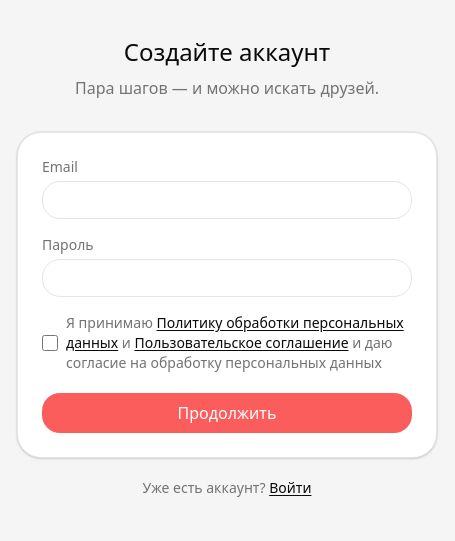
Scenario: shows a 400 error message when the submission is invalid
Type "a@b.com" into the field labelled "Email" at (227, 200), box [42,181,412,219]
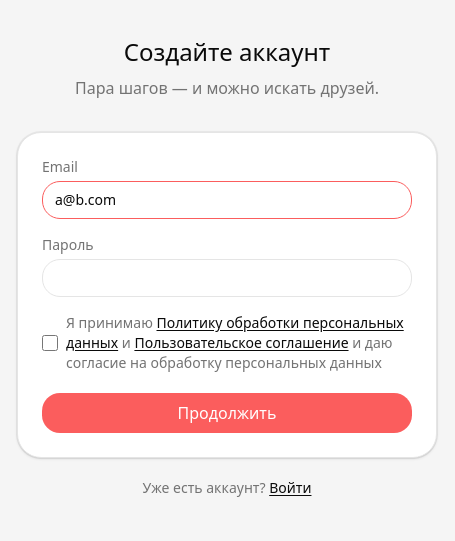
Type "password123" into the password field labelled "Пароль" at (227, 278), box [42,259,412,297]
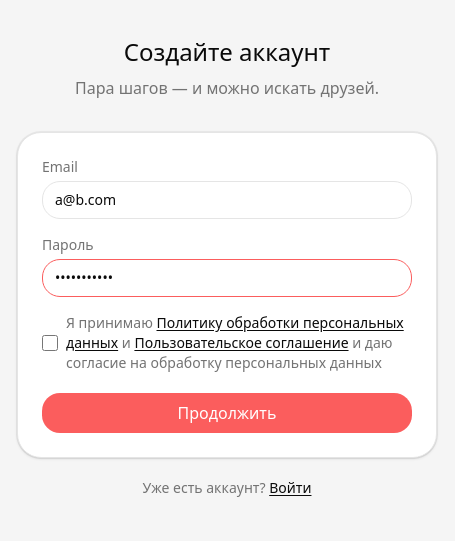
Click the checkbox at (50, 343), box [42,335,58,351]
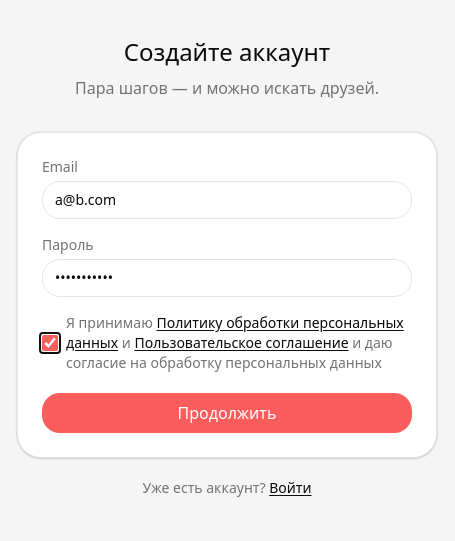
Click the button "Продолжить" at (227, 413), box [42,393,412,433]
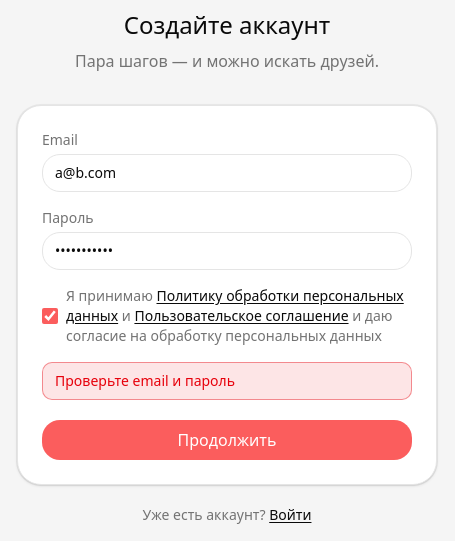
Check: the text "Проверьте email и пароль" is shown, box [42,362,412,400]
